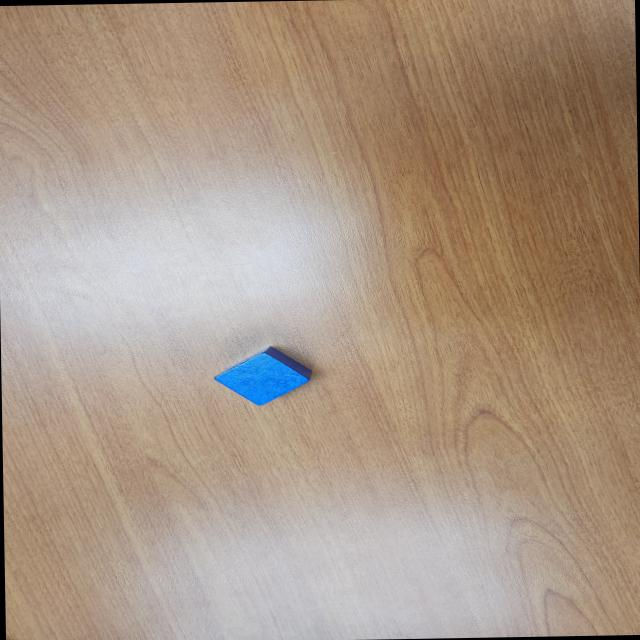blue: (214, 344, 316, 406)
